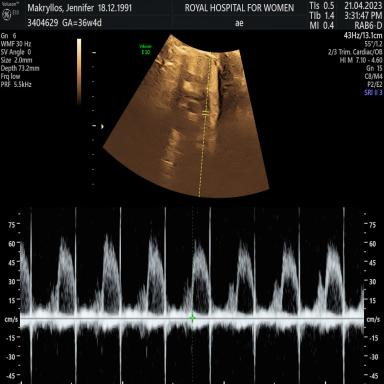Ultrasound-Waves: (25, 205, 362, 384)
